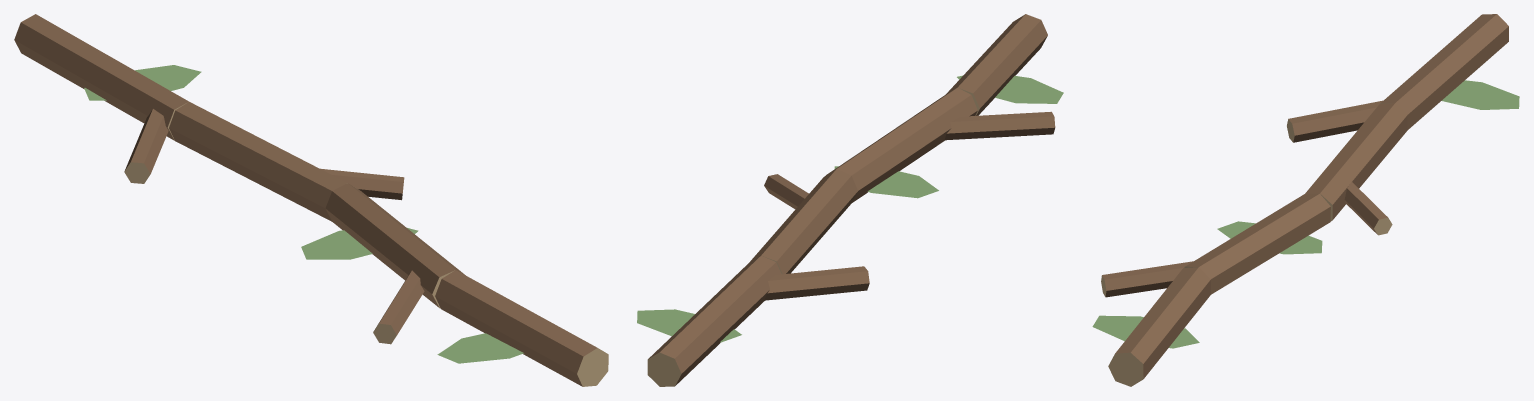
The model's file is edge_roots_border_2m.glb.
The picture shows the model from 3 angles, left to right: view 1: azimuth 30°, elevation 25°; view 2: azimuth 150°, elevation 25°; view 3: azimuth 330°, elevation 25°; orthographic projection. The views are drawn at different scales.
Parts seen in each view (by area): view 1: edge_roots_border_2m; view 2: edge_roots_border_2m; view 3: edge_roots_border_2m.
Part boxes in pixels (x1=…): edge_roots_border_2m: x1=14, y1=14, x2=608, y2=386; edge_roots_border_2m: x1=637, y1=14, x2=1063, y2=386; edge_roots_border_2m: x1=1092, y1=14, x2=1519, y2=386.
Bounding box in the file's own units: 0.4739 × 0.1027 × 2.01.
